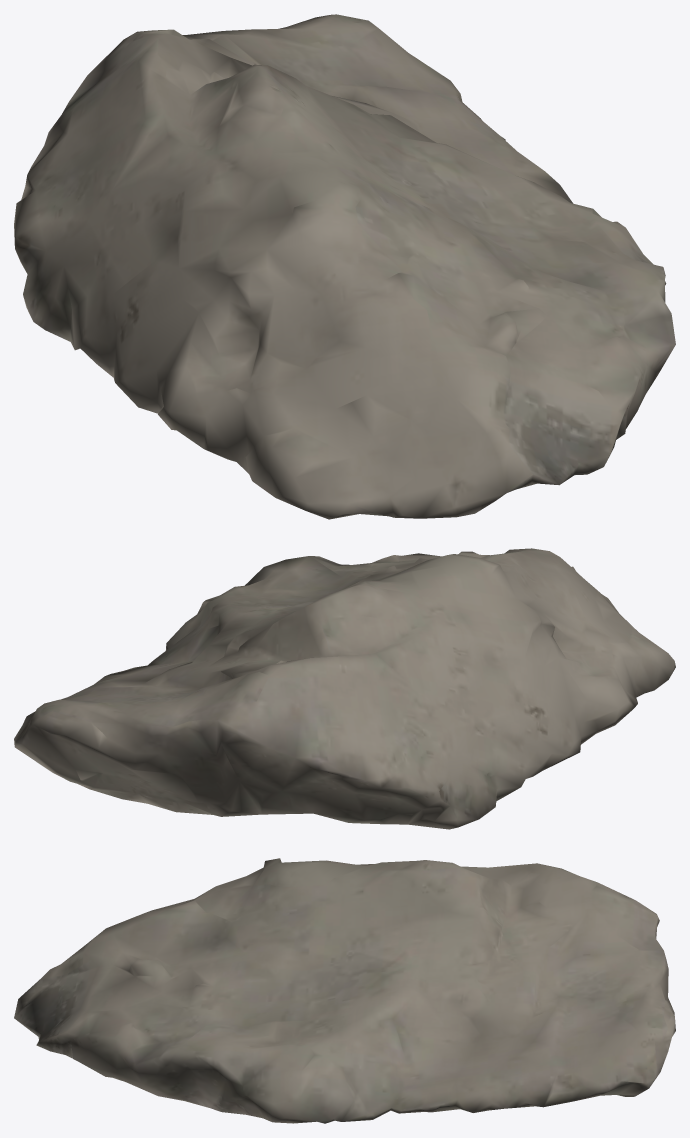
Rendered from moon_rock_04.glb.
The picture shows the model from 3 angles, top to bottom: view 1: azimuth 30°, elevation 25°; view 2: azimuth 150°, elevation 25°; view 3: azimuth 270°, elevation 25°; orthographic projection. The views are drawn at different scales.
Parts seen in each view (by area): view 1: moon_rock_04_LOD0; view 2: moon_rock_04_LOD0; view 3: moon_rock_04_LOD0.
Part boxes in pixels (<box>): moon_rock_04_LOD0: <box>14,14,675,519</box>; moon_rock_04_LOD0: <box>14,548,675,829</box>; moon_rock_04_LOD0: <box>14,858,675,1123</box>.
Size of the model in its own units: 0.1198 by 0.0538 by 0.1738.
Materials: 1 (1 with a texture image).
